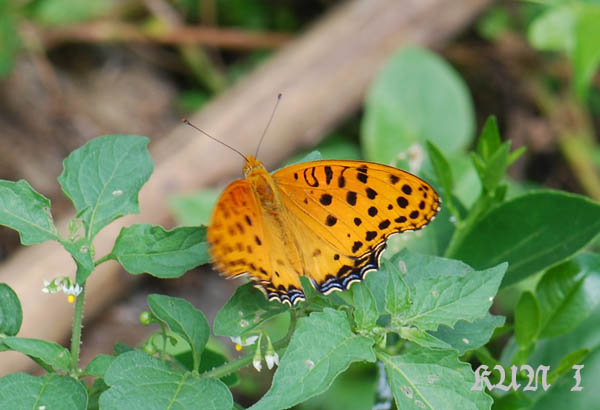Argyreus hyperbius: (174, 86, 448, 305)
butterfly: (176, 88, 450, 307)
